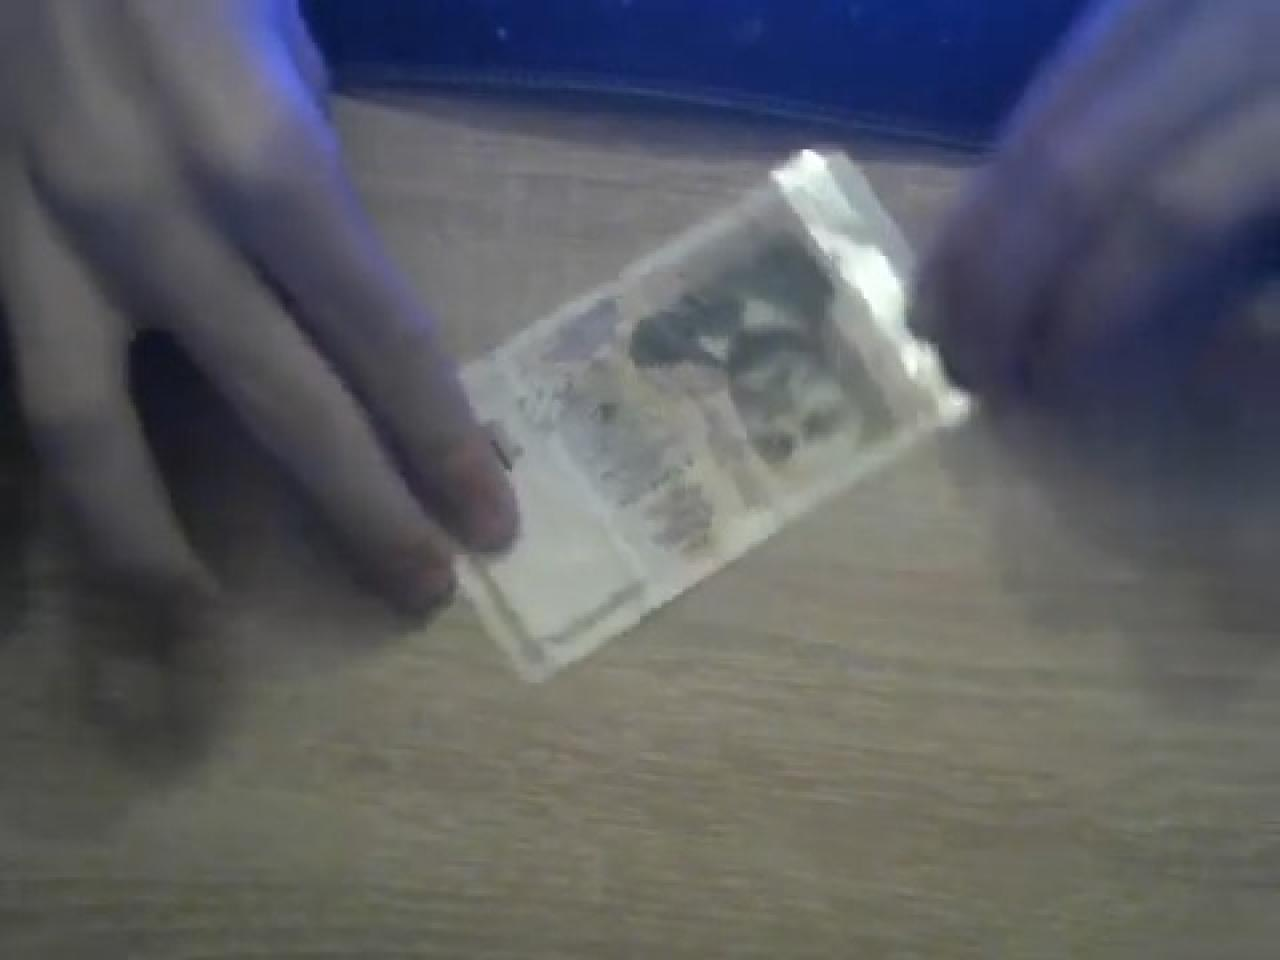10leva: (459, 152, 966, 686)
